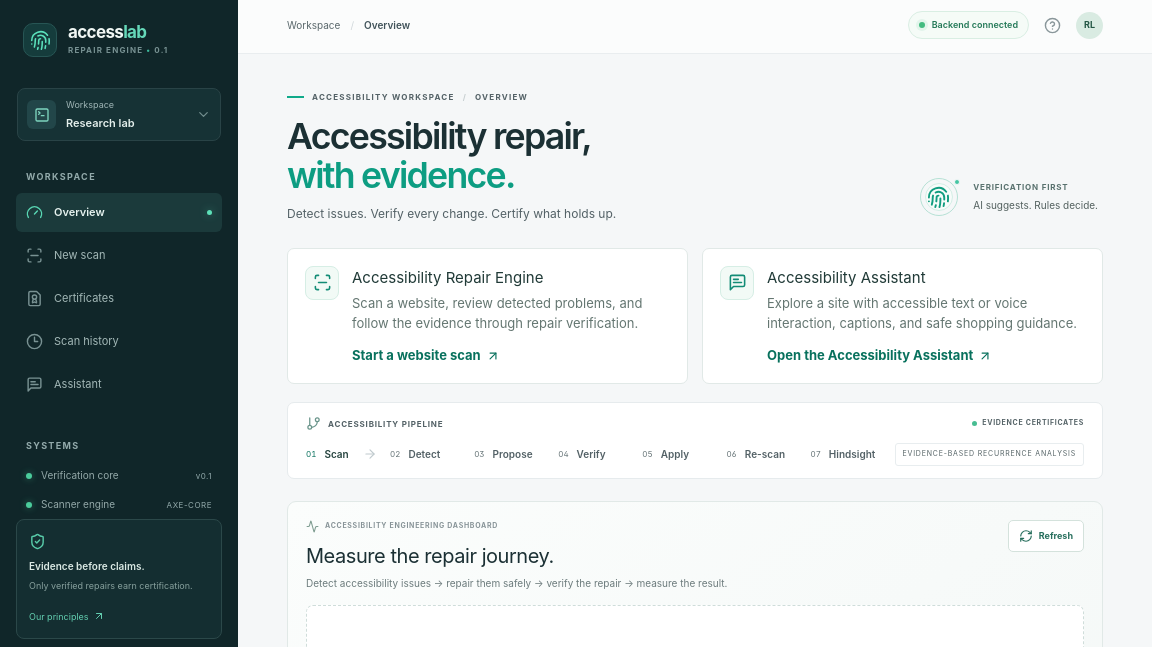
it: dashboard › offers separate scanner and assistant journeys from the overview
Expected: the text "Backend connected" is shown, [908,11,1029,39]
Expected: the heading "Accessibility Repair Engine" is shown, [352,268,543,287]
Click the link "Start a website scan" at [426, 356], box [352,346,500,366]
(page scrolled)
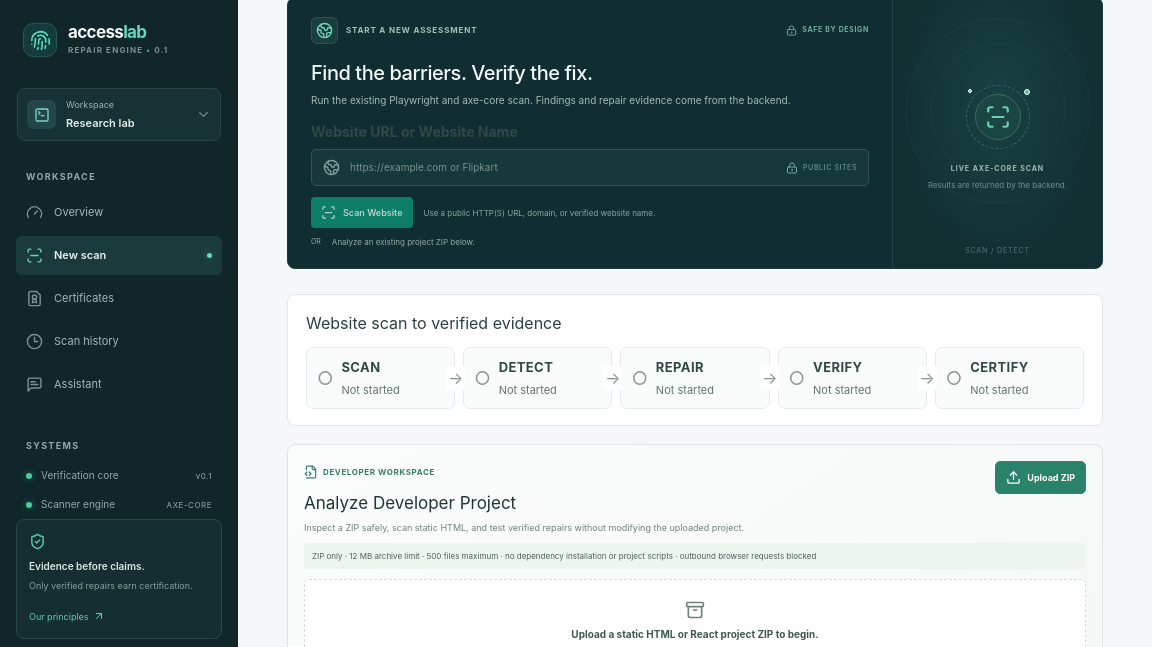
Click the link "Overview" at [65, 212], box [26,204,103,220]
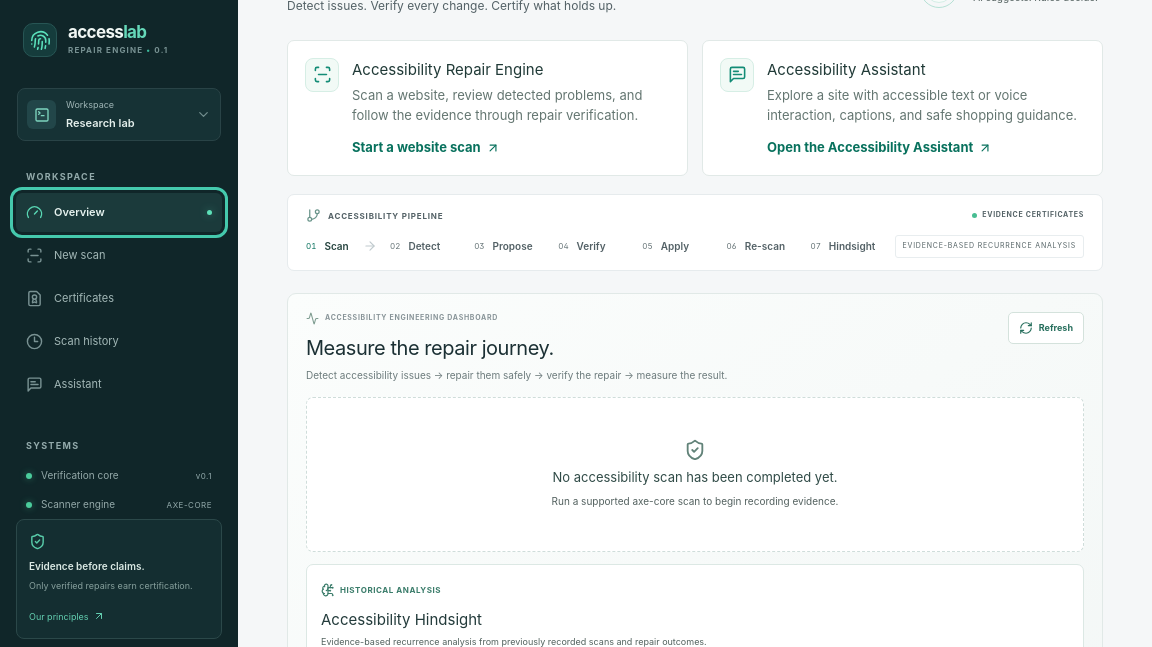
Click the link "Open the Accessibility Assistant" at [880, 148], box [767,138,992,158]
(page scrolled)
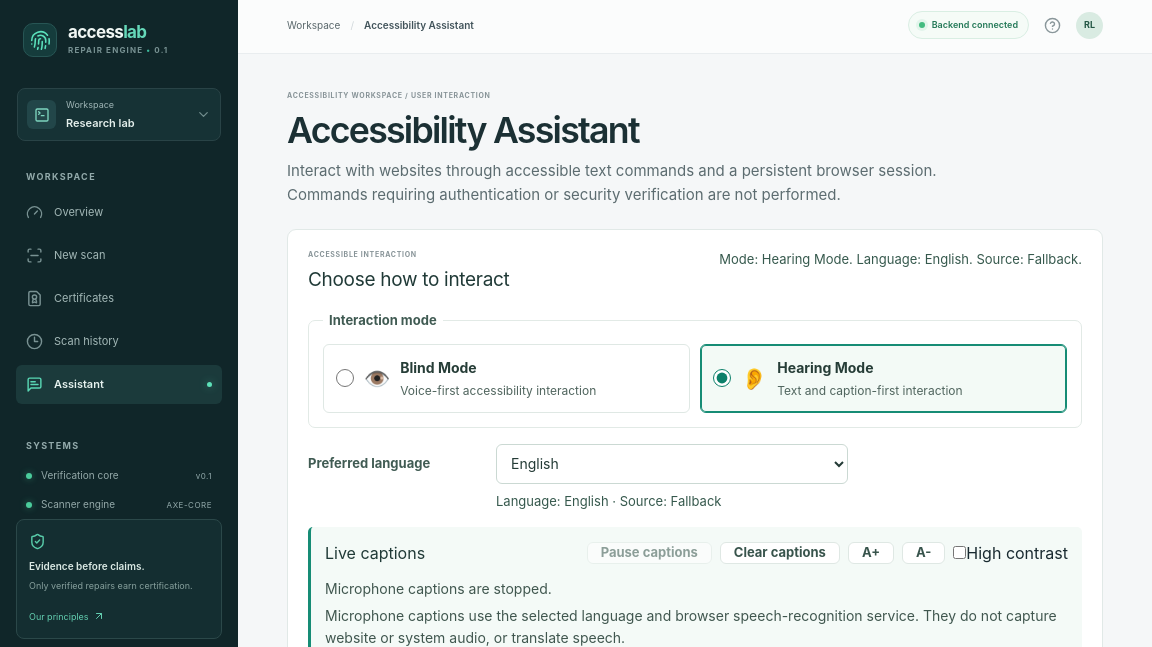
Result: the heading "Accessibility Assistant" is shown at [287,108,639,152]
